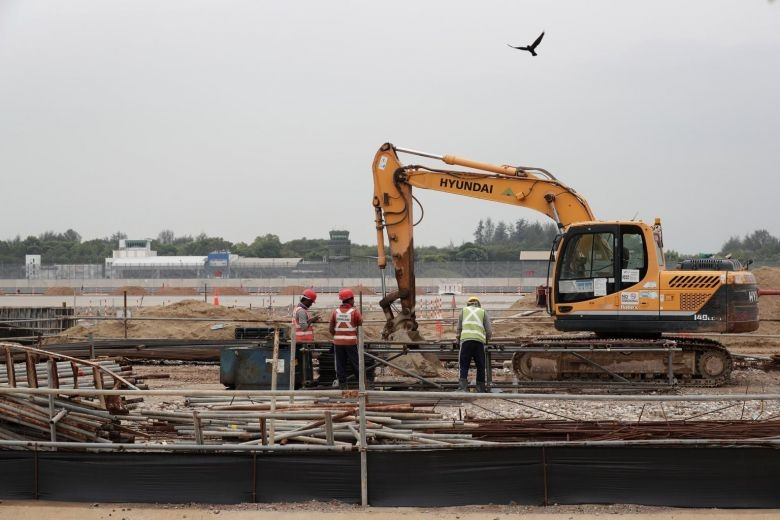red: (300, 290, 317, 310), (339, 287, 355, 305)
yellow: (465, 297, 482, 309)
